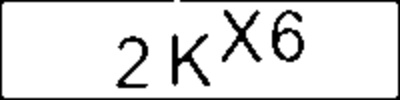2: (112, 31, 153, 92)
6: (269, 6, 307, 67)
K: (168, 28, 216, 92)
X: (220, 7, 265, 66)
